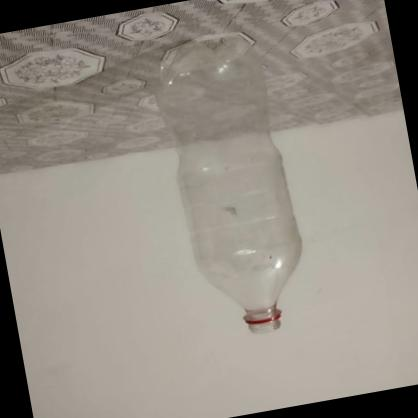bottle: (142, 21, 318, 347)
